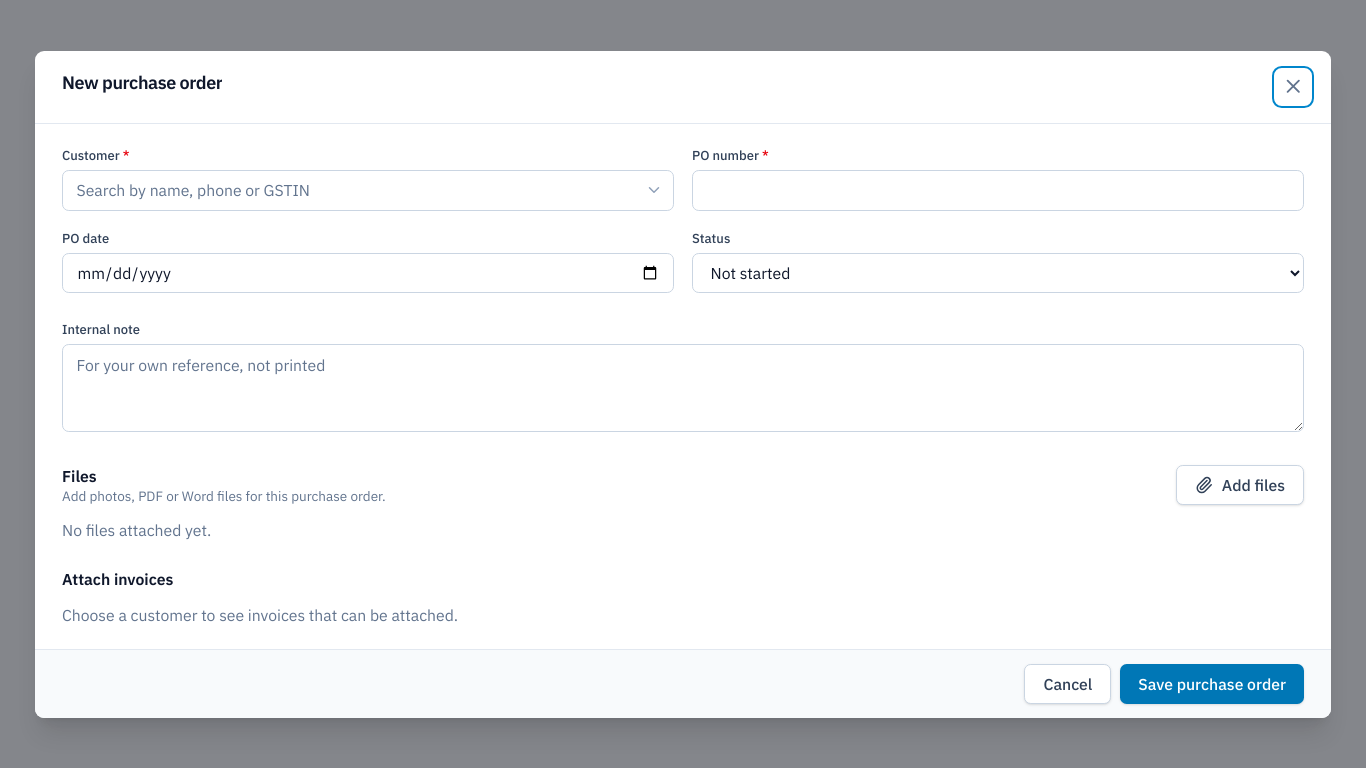
Test case: a new purchase order › warns that attaching replaces the PO text an invoice prints now
Click the dropdown named "Customer".
click(368, 190)  # box [62,170,674,210]
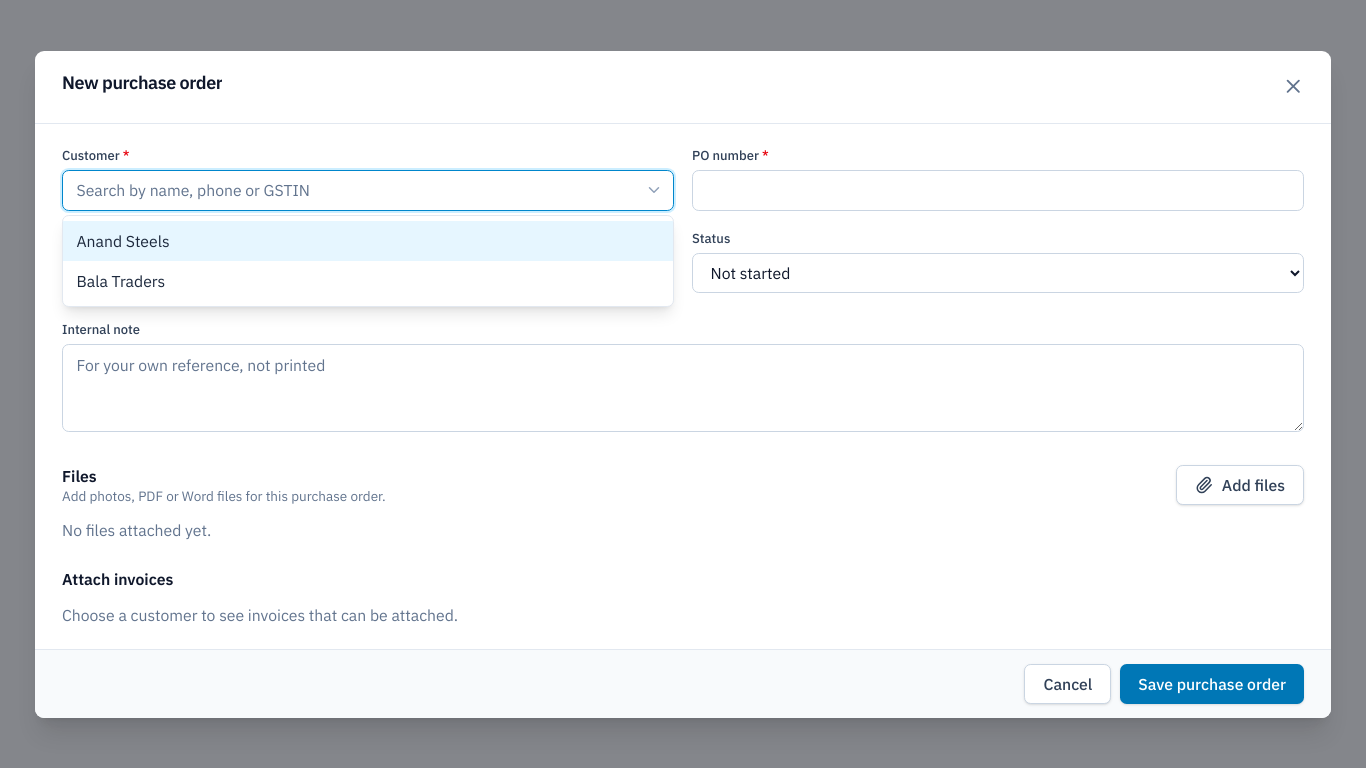
Click the option "Anand Steels".
click(123, 240)  # box [63,220,673,261]
(page scrolled)
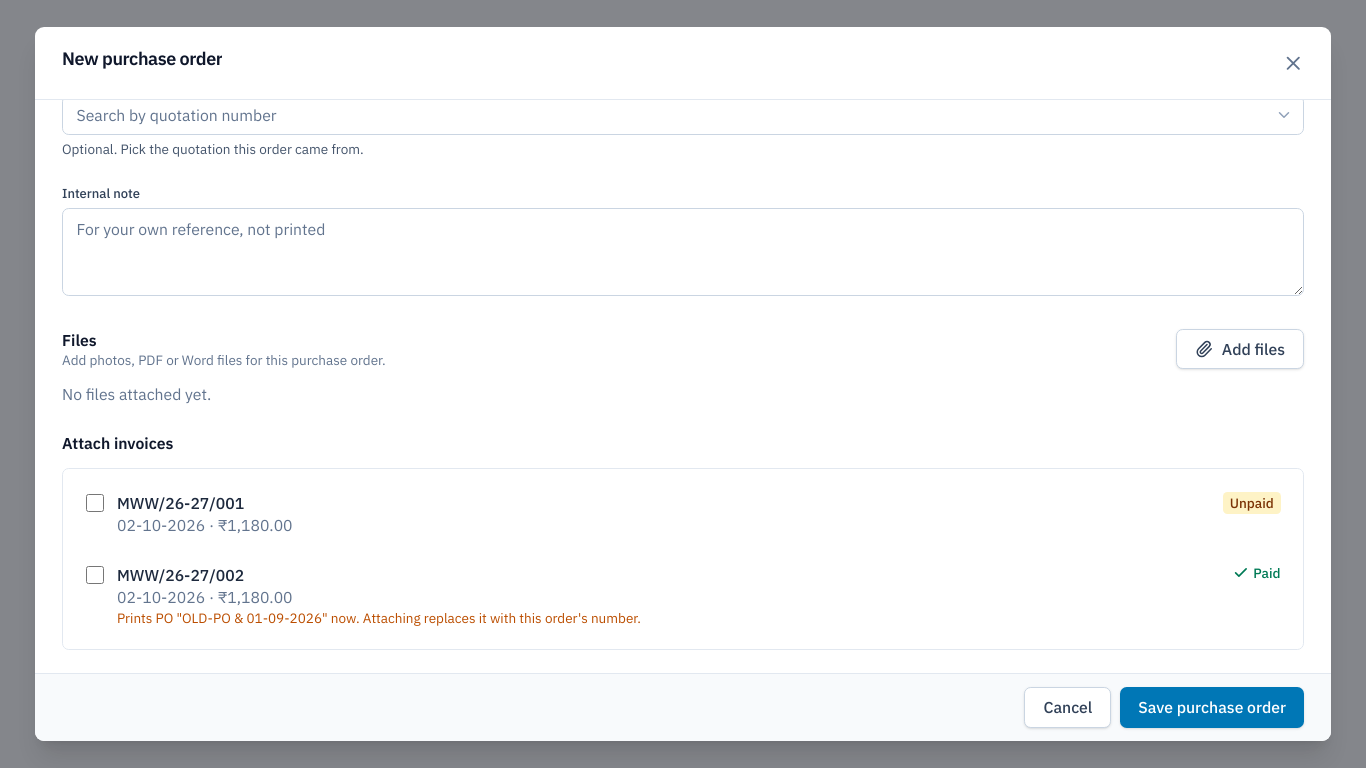
Check: the text "Prints PO \"OLD-PO & 01-09-2026\" now. Attaching replaces it with this order's number." is shown, box [117,609,641,627]
